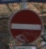No entry: (6, 6, 40, 44)
